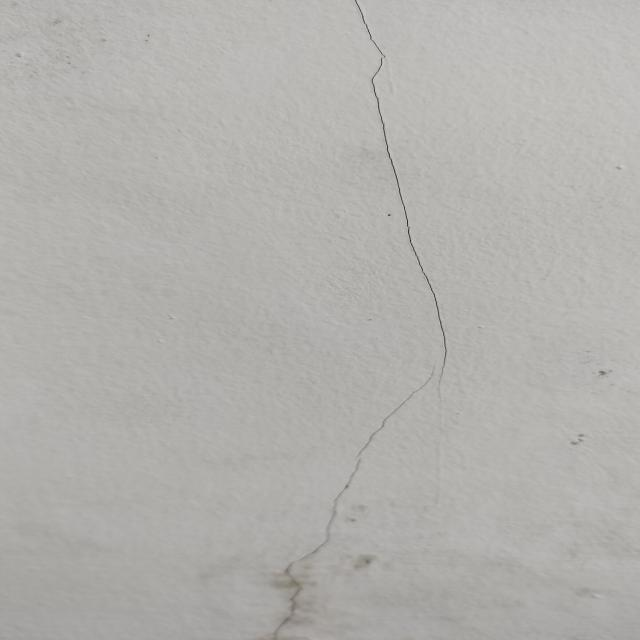Crack: (268, 1, 452, 640)
